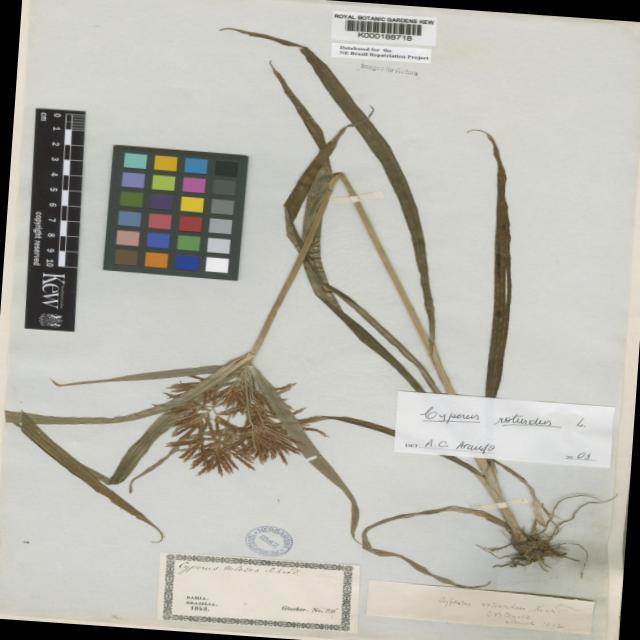cyperus: (143, 363, 328, 482)
